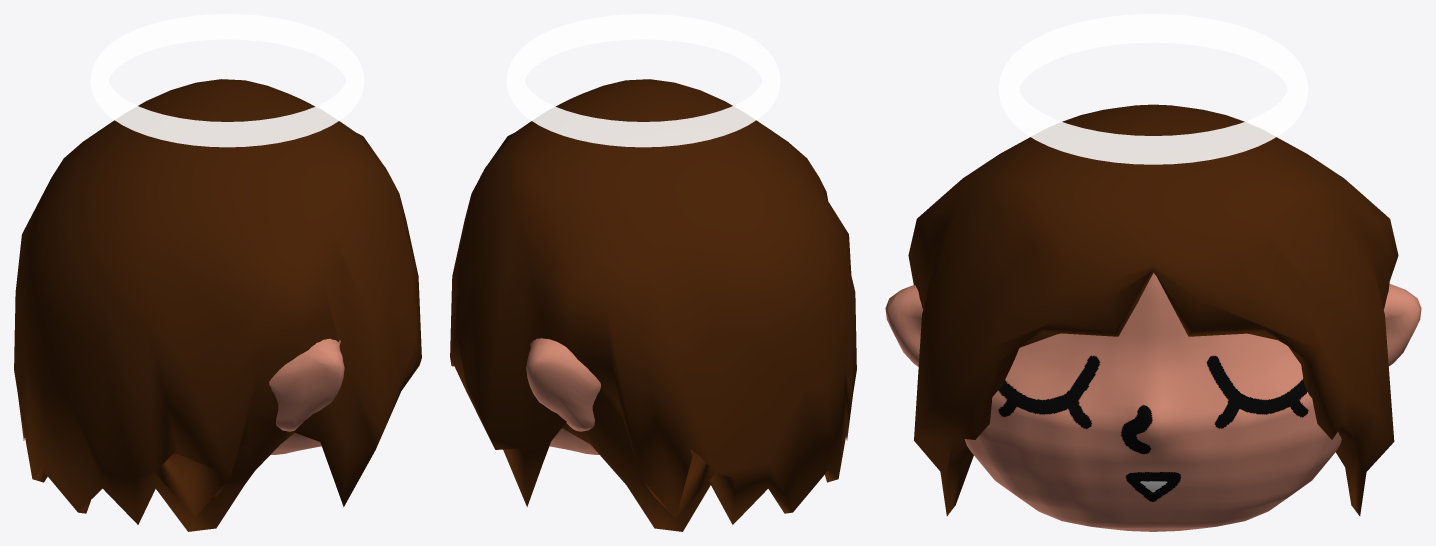
Rendered from head05HAIR.glb.
3 renders of one model, left to right at view 1: azimuth 30°, elevation 25°; view 2: azimuth 150°, elevation 25°; view 3: azimuth 270°, elevation 25°, orthographic. The views are drawn at different scales.
Visible parts, largest first — view 1: hair, Torus.003, head; view 2: hair, Torus.003, head; view 3: hair, head, Torus.003.
Boxes of the visible parts, x1,y1,x2,y2 form: hair: (14,79,421,531); Torus.003: (90,14,364,147); head: (269,338,344,454); hair: (450,79,856,531); Torus.003: (506,14,780,147); head: (526,338,600,454); hair: (908,104,1398,515); head: (885,273,1421,531); Torus.003: (998,14,1308,164).
Bounding box in the file's own units: 1.89 × 2.19 × 2.28.
Materials: 3 (1 with a texture image).
